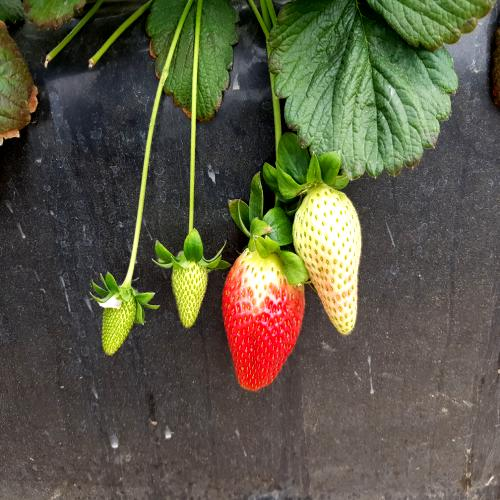ripe: (216, 232, 312, 406)
unripe: (294, 186, 368, 353)
